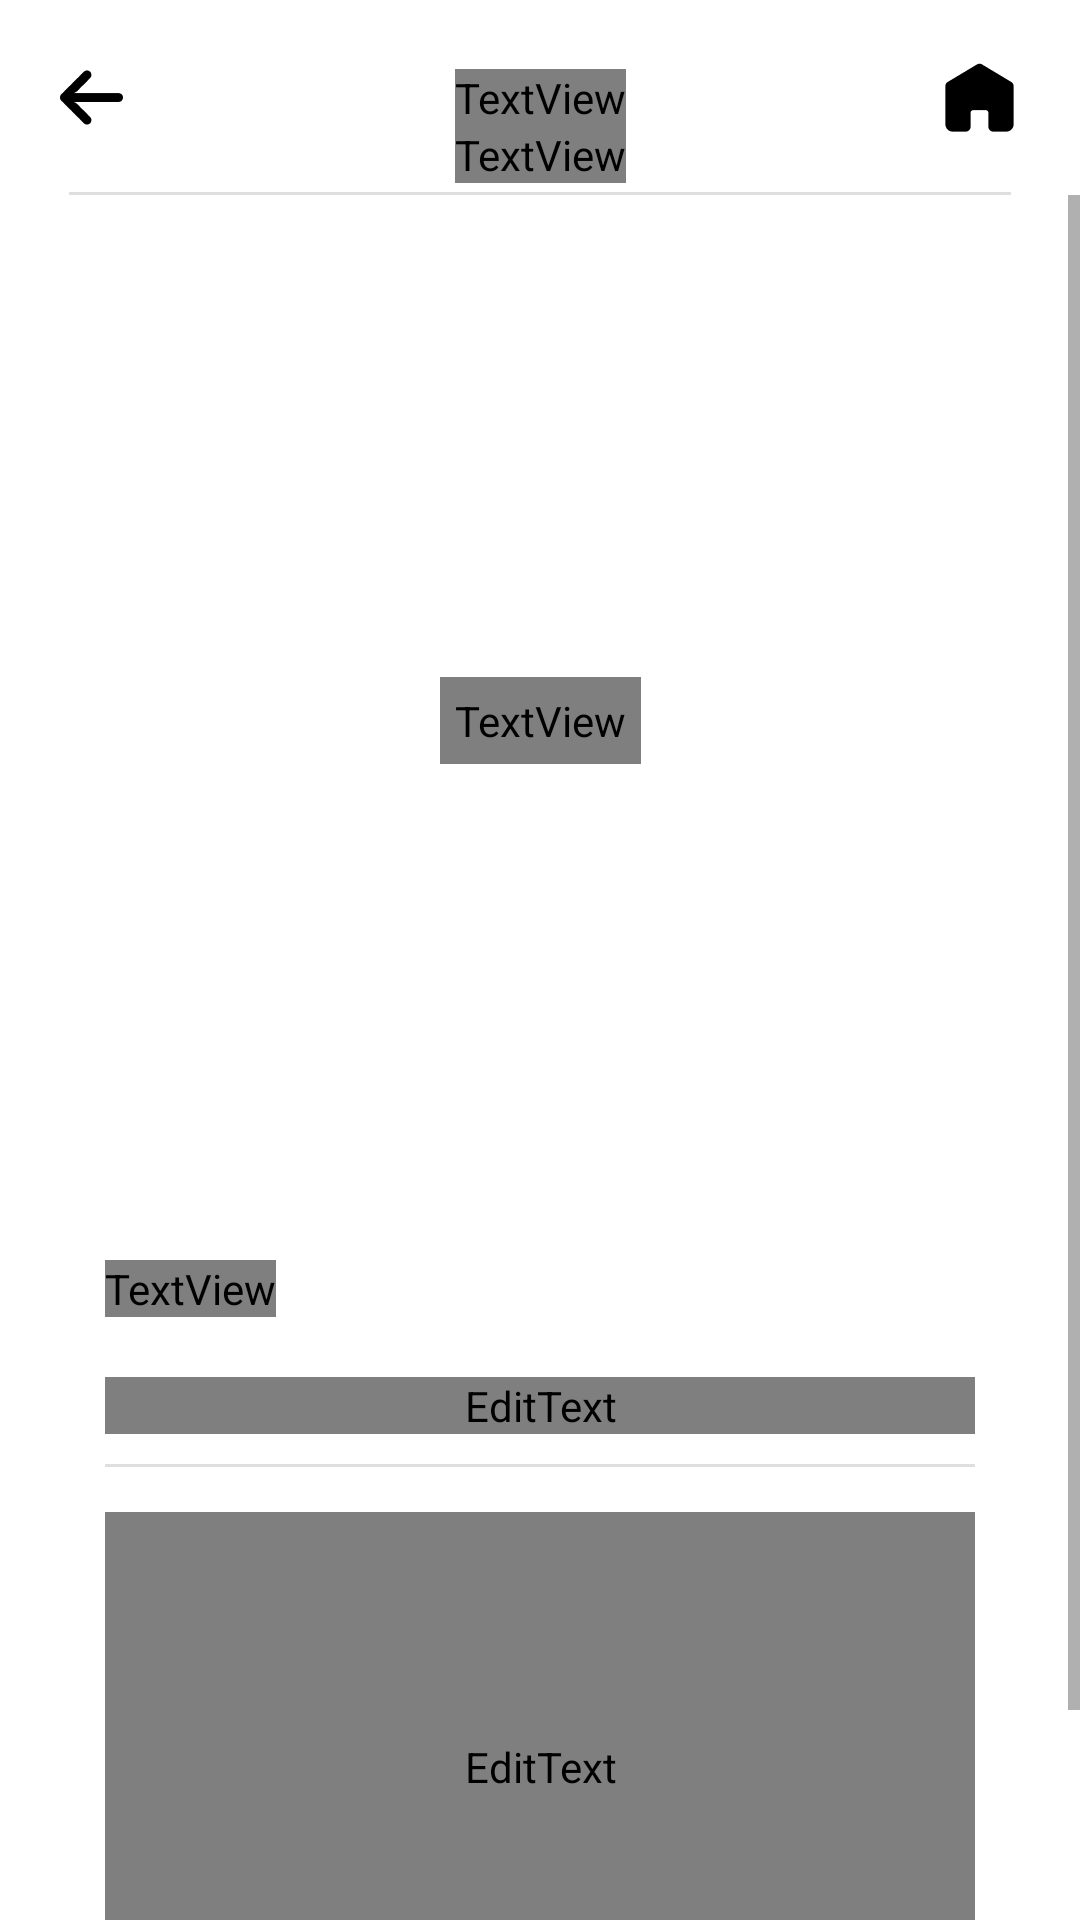

Icons on this 1080x1920 Android screen, each with its box as (x1, y1, x2, y2):
base back: (60, 70, 123, 125)
base home: (945, 63, 1014, 132)
